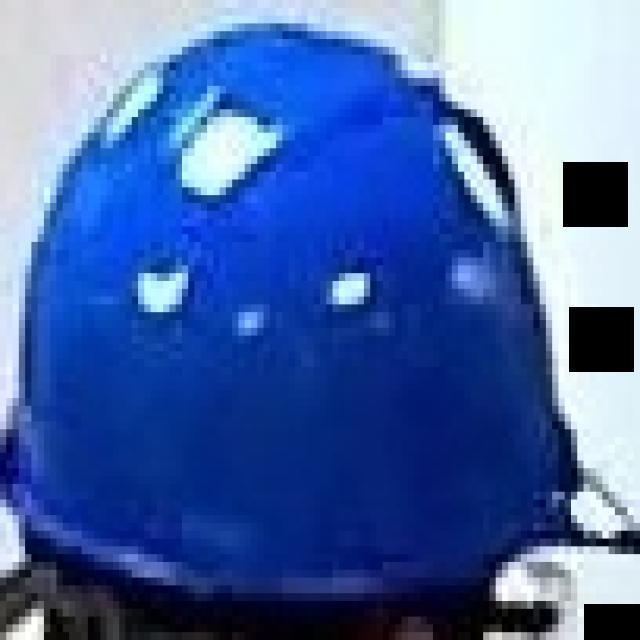blue helmet: (1, 20, 586, 599)
